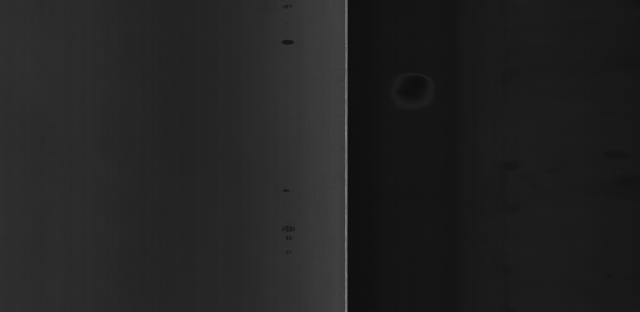oil_spot: (275, 223, 307, 257), (279, 35, 304, 56)
